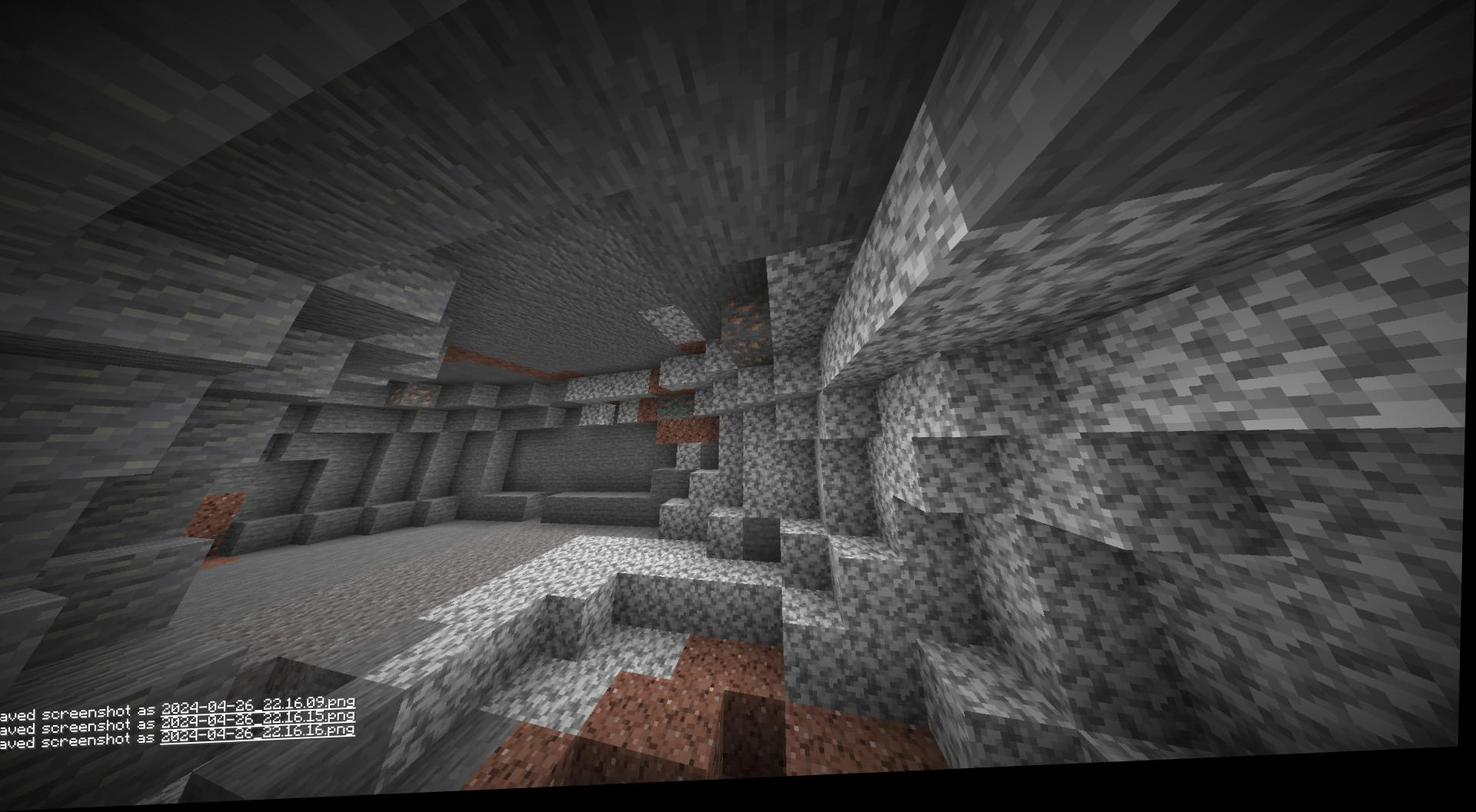iron ore: (720, 300, 770, 348), (393, 383, 436, 416), (730, 343, 769, 374)
